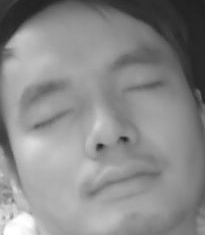blink: (33, 109, 75, 132), (122, 79, 162, 101)
mouth: (90, 158, 162, 201)
